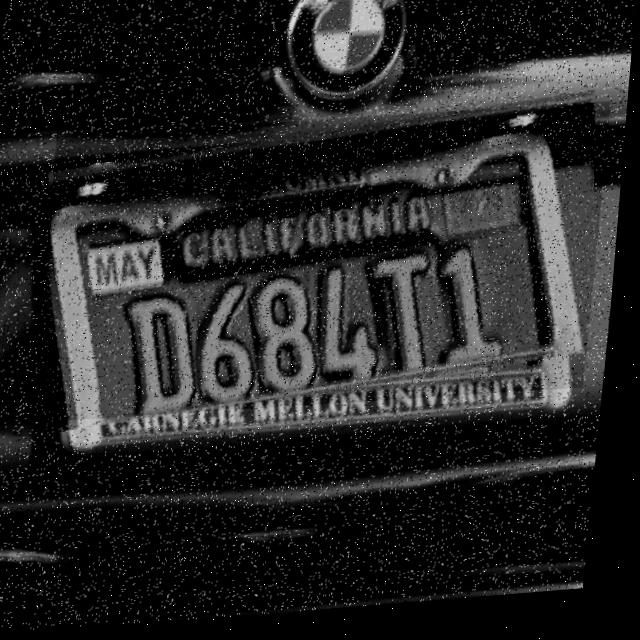LicensePlate: (35, 102, 614, 433)
